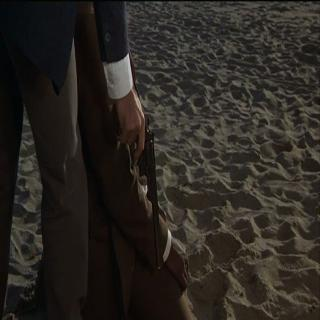gun: (116, 106, 164, 272)
